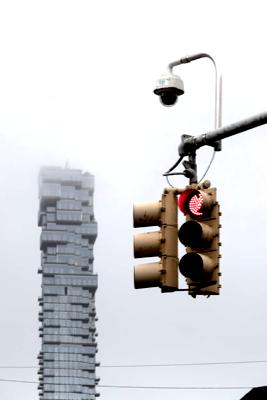International Road Signal Light: (179, 185, 222, 295), (131, 191, 171, 291)
